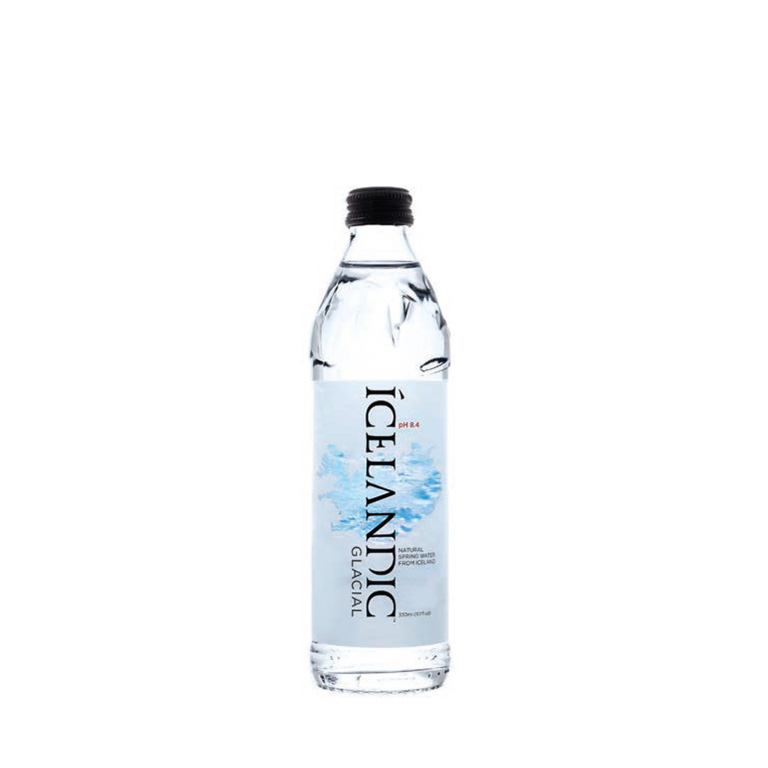glass_bottle: (303, 183, 454, 707)
